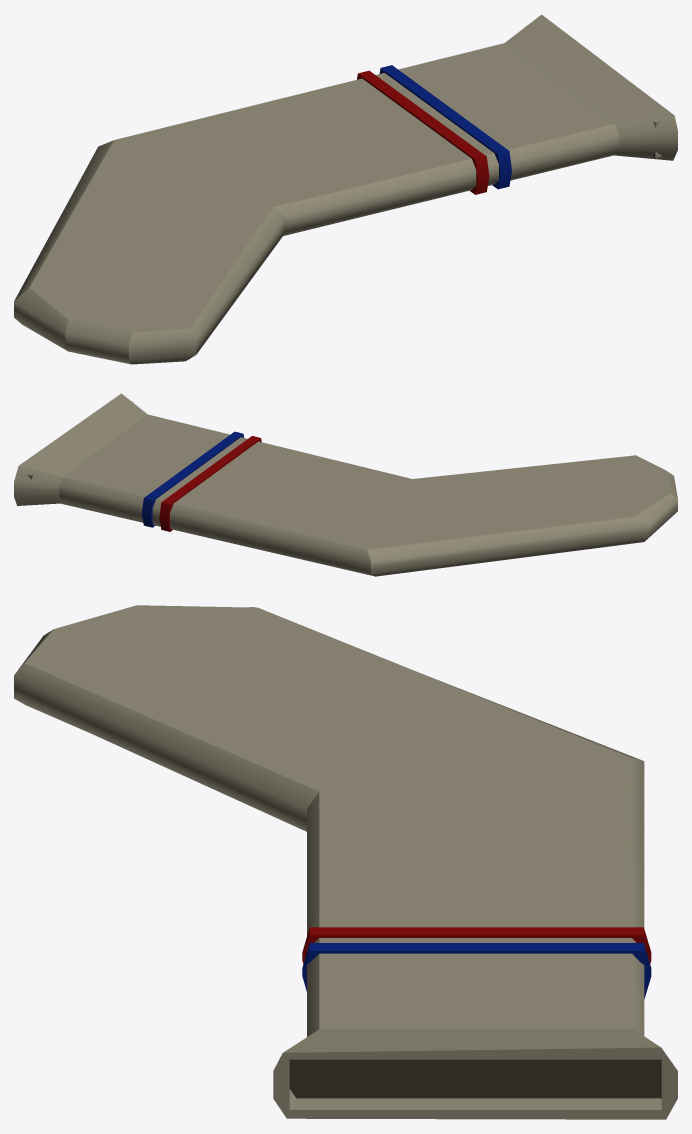
Rendered from SM_Sock.fbx.
3 views of the same model, one above another, from view 1: azimuth 30°, elevation 25°; view 2: azimuth 150°, elevation 25°; view 3: azimuth 270°, elevation 25° (orthographic). The views are drawn at different scales.
Parts seen in each view (by area): view 1: pCube1; view 2: pCube1; view 3: pCube1.
Boxes of the visible parts, <box> form: pCube1: <box>14,14,677,364</box>; pCube1: <box>14,393,677,576</box>; pCube1: <box>14,605,677,1119</box>.
Size of the model in its own units: 10.66 by 0.7696 by 6.42.
